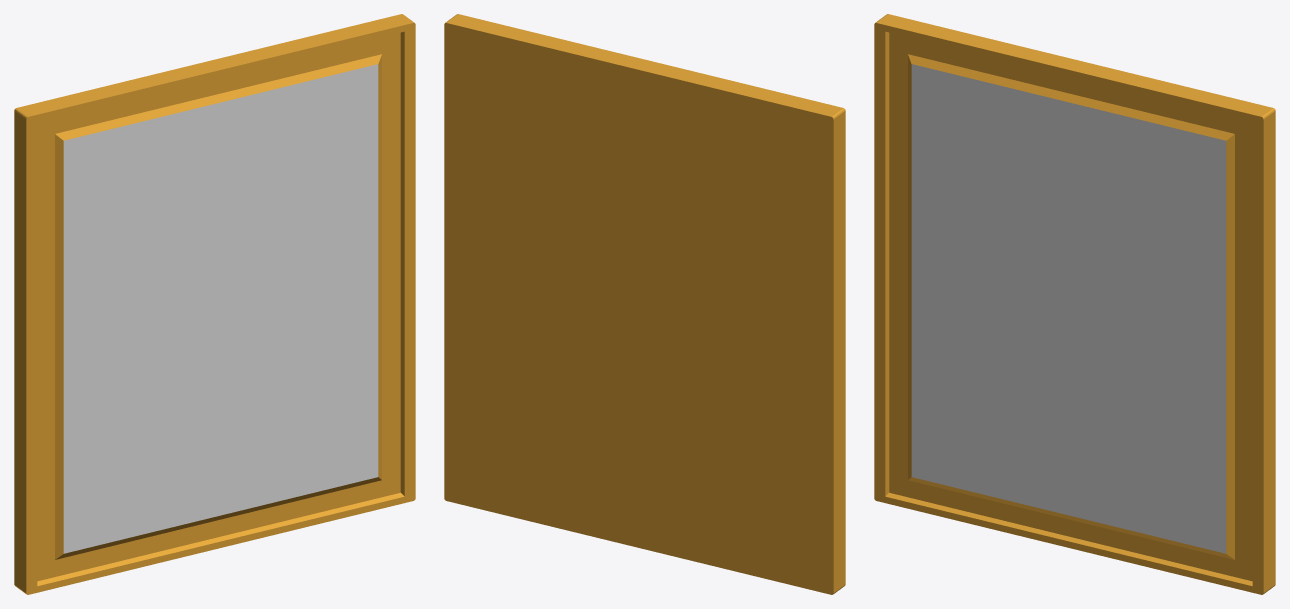
File: painting_frame.fbx
3 renders of one model, left to right at view 1: azimuth 30°, elevation 25°; view 2: azimuth 150°, elevation 25°; view 3: azimuth 330°, elevation 25°, orthographic.
Parts seen in each view (by area): view 1: Cube; view 2: Cube; view 3: Cube.
Part boxes in pixels (x1=…): Cube: x1=14, y1=14, x2=415, y2=594; Cube: x1=444, y1=14, x2=845, y2=594; Cube: x1=874, y1=14, x2=1275, y2=594.
Size of the model in its own units: 79.62 by 93.43 by 4.3.
